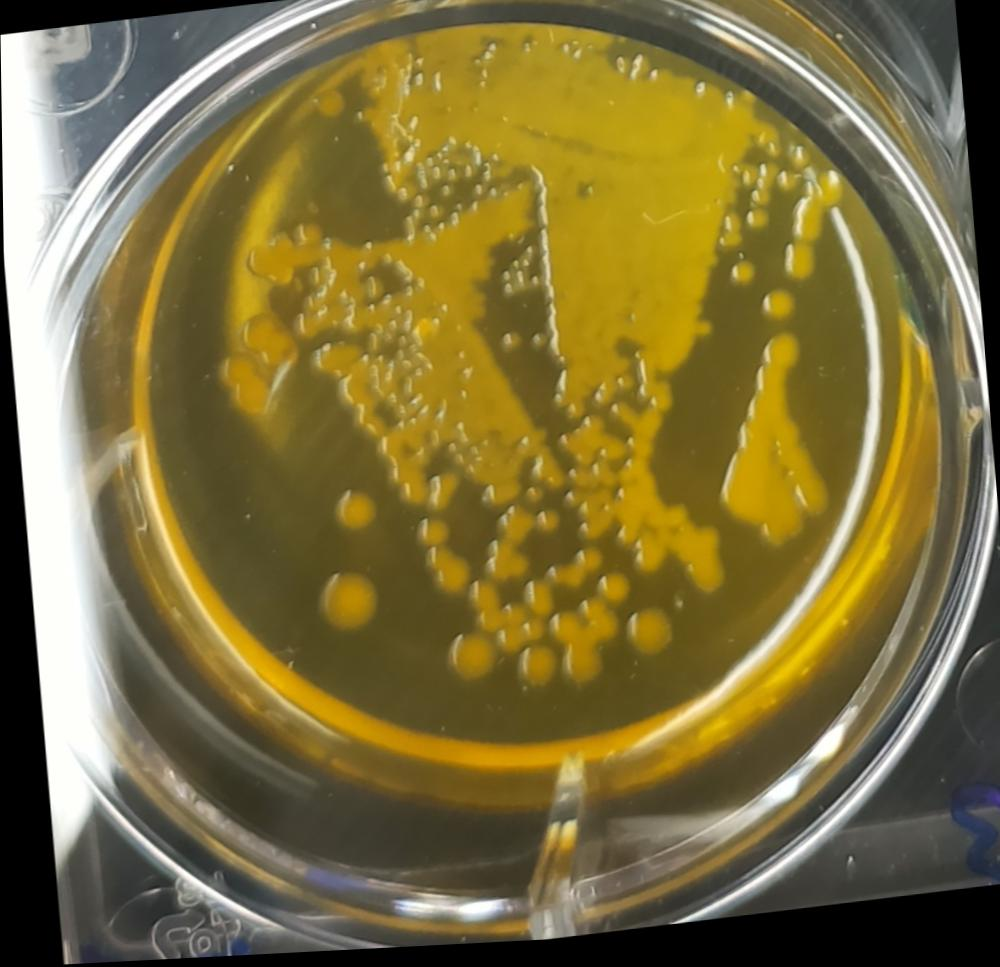vharveyi: (303, 559, 388, 648), (437, 628, 501, 693), (236, 309, 296, 376), (377, 429, 426, 511), (236, 232, 297, 297), (322, 480, 384, 541), (616, 607, 676, 668), (218, 349, 270, 417), (510, 645, 565, 703), (461, 571, 505, 638), (414, 544, 467, 598), (539, 551, 602, 594), (474, 536, 529, 584), (309, 336, 365, 383), (336, 359, 380, 414), (557, 646, 603, 692), (589, 573, 631, 612), (409, 519, 449, 554)
